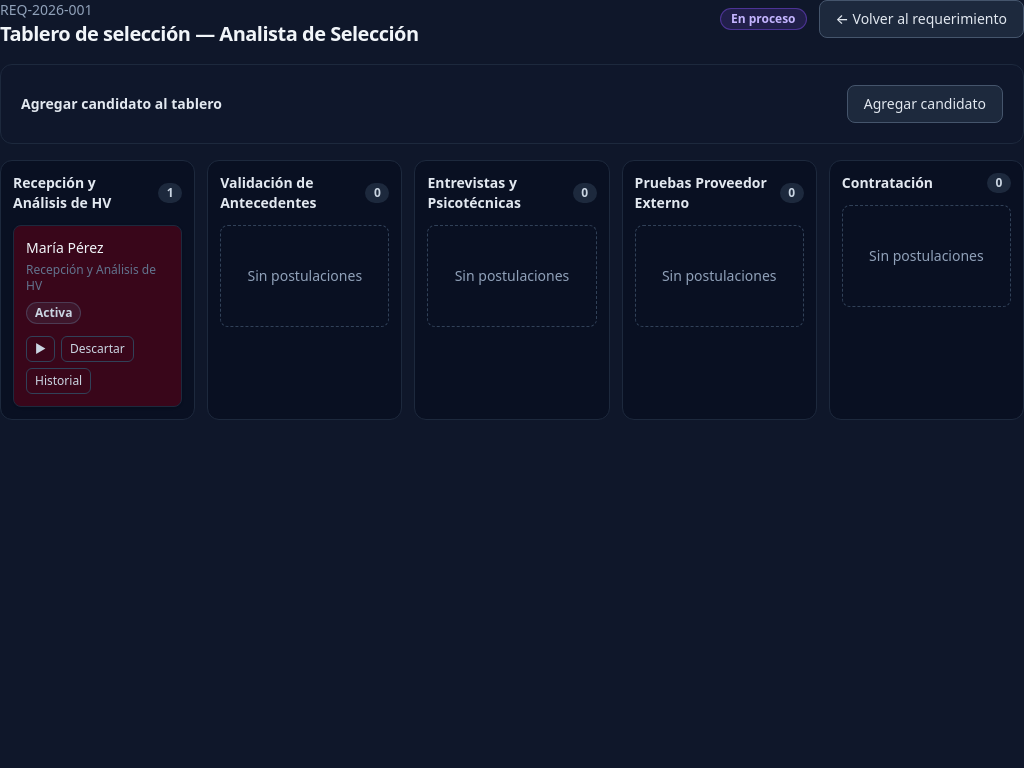
Test: tablero Kanban (diálogo de descarte) › el diálogo exige un motivo de al menos 5 caracteres antes de enviar
The width and height of the screenshot is (1024, 768).
Click the button "Descartar" at (97, 349), box [61,336,134,362]
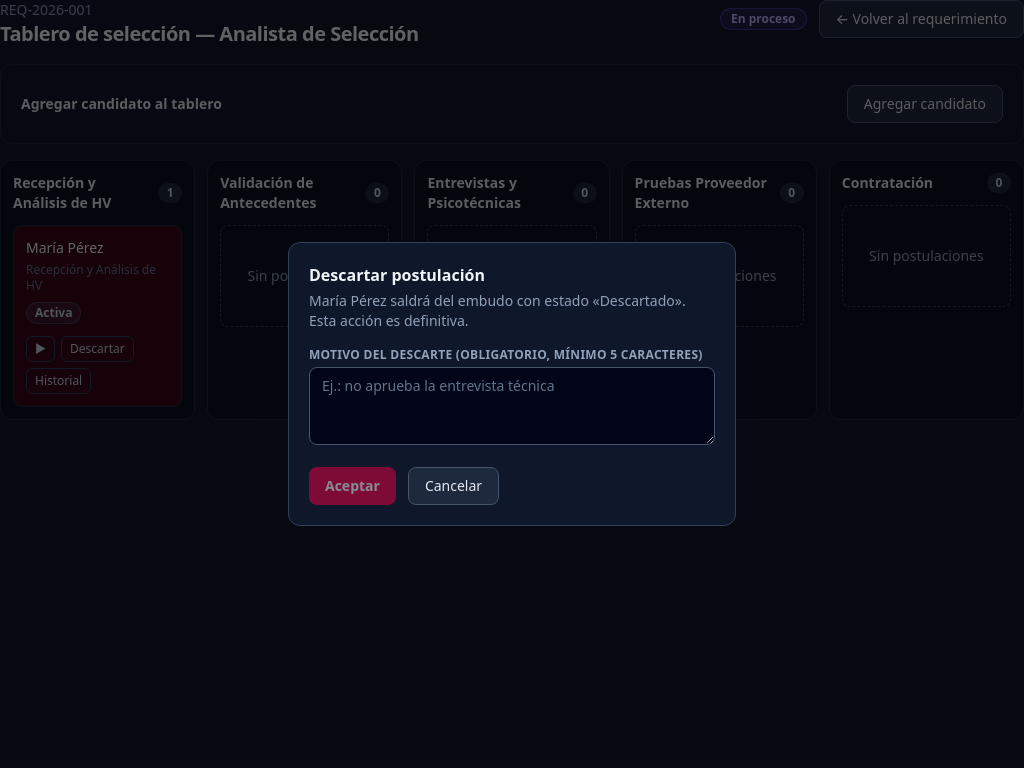
Now the button "Aceptar" is disabled, box [309,467,396,505]
Note: Motivo demasiado corto (menos de 5 tras recortar): sigue deshabilitado.
Type " abc " into the text box at (512, 406), box [309,367,715,445]
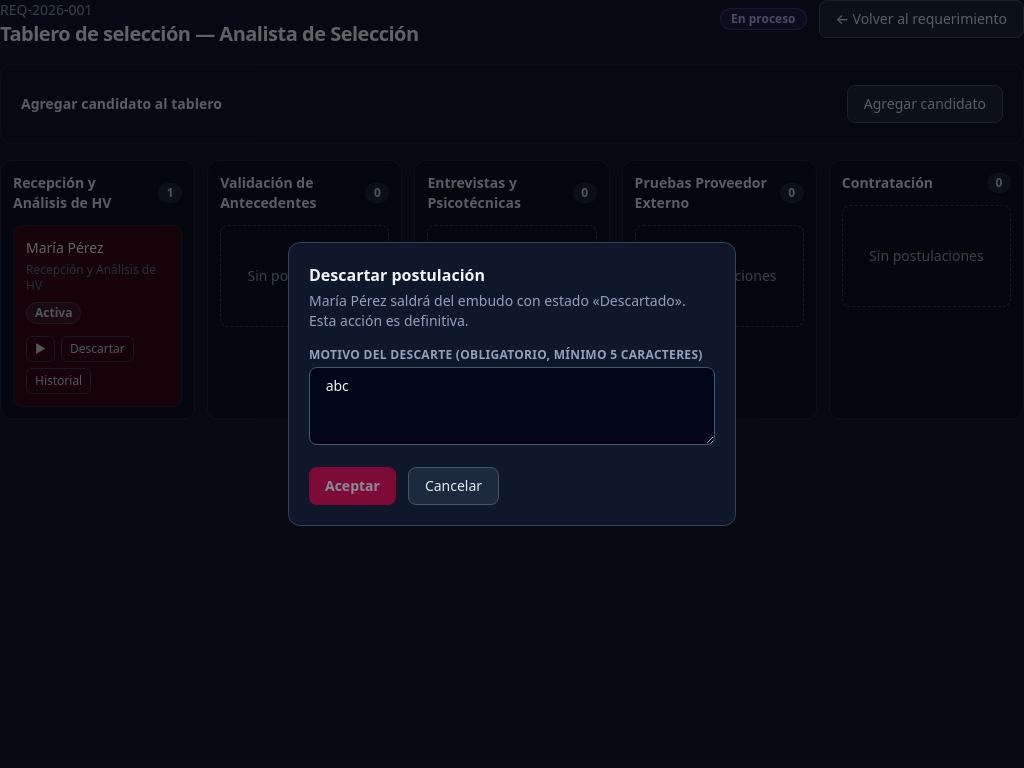
Now the button "Aceptar" is disabled, box [309,467,396,505]
Note: Motivo válido: habilita el envío.
Replace the text in the text box with "No cumple el perfil" at (512, 406), box [309,367,715,445]
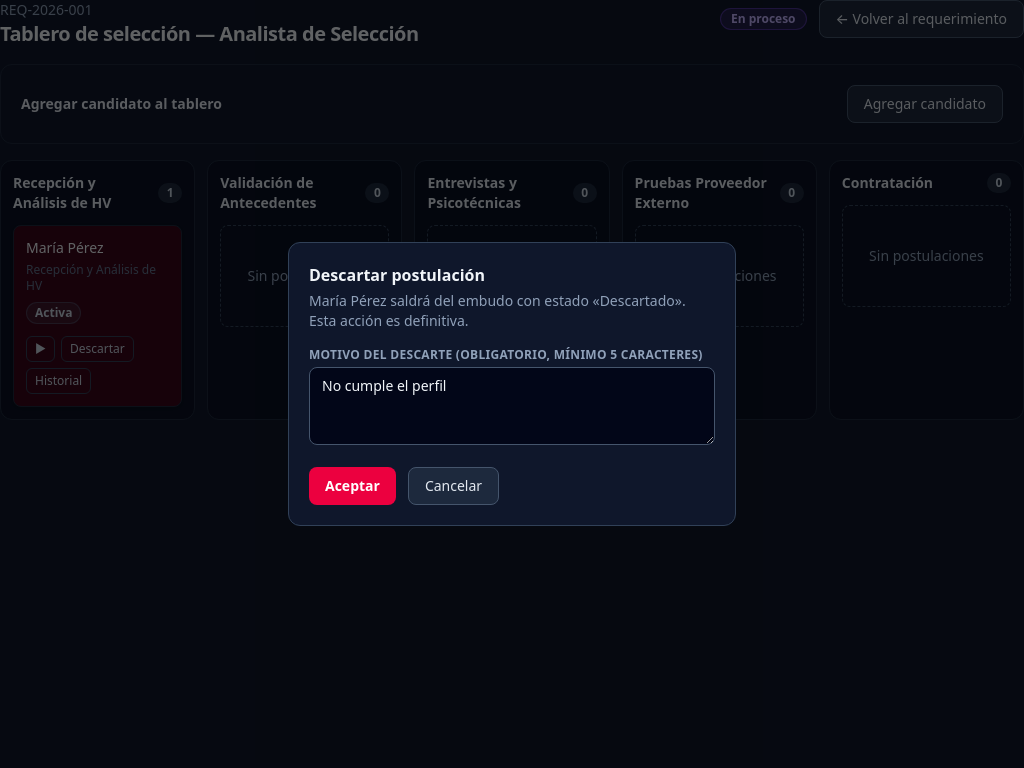
Now the button "Aceptar" is enabled, box [309,467,396,505]
